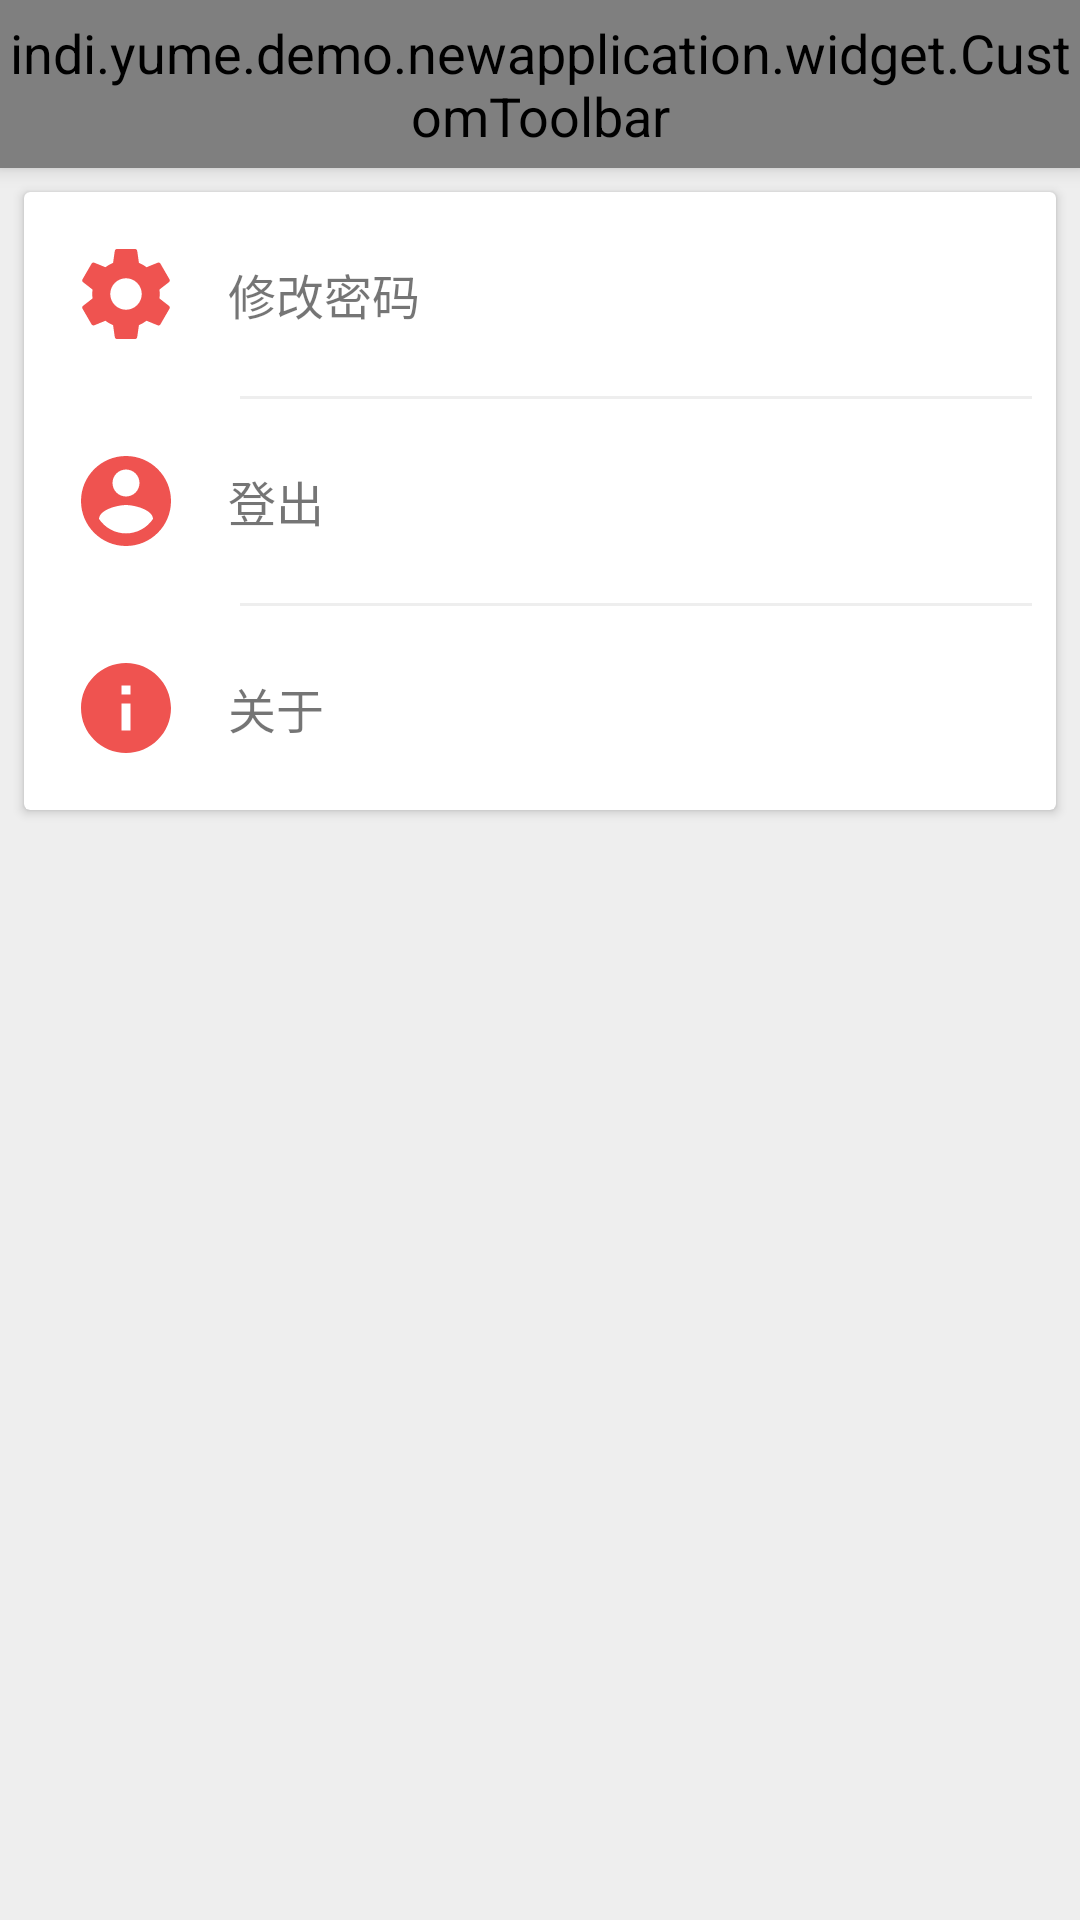

Named icons in this screenshot (1080x1920) and their centers, (x=x, y=y):
account circle: (x=126, y=501)
info: (x=126, y=708)
settings: (x=126, y=294)
